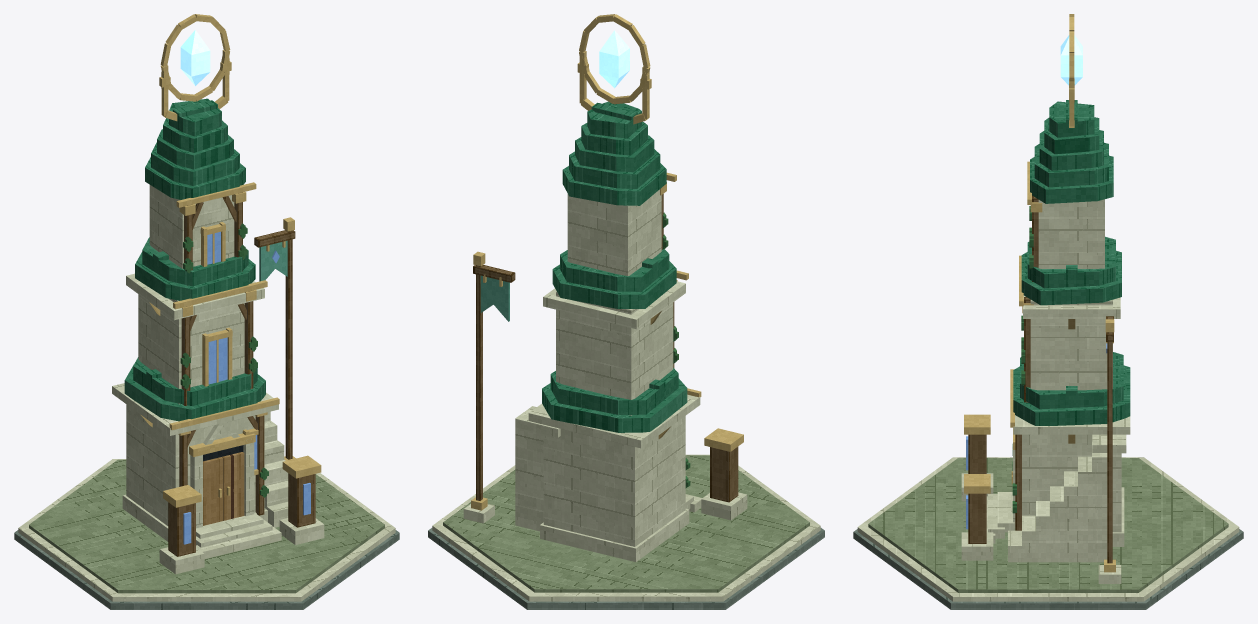
The model's file is elf_arcane_ritual_hex_v1.glb.
The picture shows the model from 3 angles, left to right: view 1: azimuth 30°, elevation 25°; view 2: azimuth 150°, elevation 25°; view 3: azimuth 270°, elevation 25°; orthographic projection. The views are drawn at different scales.
Parts seen in each view (by area): view 1: Elf_Arcane_Ritual_Hex_V1_Foundation, Elf_Arcane_Ritual_Hex_V1_Roofs, Elf_Arcane_Ritual_Hex_V1_Hall, Elf_Arcane_Ritual_Hex_V1_Details, Elf_Arcane_Ritual_Hex_V1_Training, Elf_Arcane_Ritual_Hex_V1_Courtyard, Elf_Arcane_Ritual_Hex_V1_Focus, Elf_Arcane_Ritual_Hex_V1_Faction; view 2: Elf_Arcane_Ritual_Hex_V1_Hall, Elf_Arcane_Ritual_Hex_V1_Foundation, Elf_Arcane_Ritual_Hex_V1_Roofs, Elf_Arcane_Ritual_Hex_V1_Focus, Elf_Arcane_Ritual_Hex_V1_Faction, Elf_Arcane_Ritual_Hex_V1_Courtyard, Elf_Arcane_Ritual_Hex_V1_Training, Elf_Arcane_Ritual_Hex_V1_Details; view 3: Elf_Arcane_Ritual_Hex_V1_Foundation, Elf_Arcane_Ritual_Hex_V1_Roofs, Elf_Arcane_Ritual_Hex_V1_Hall, Elf_Arcane_Ritual_Hex_V1_Courtyard, Elf_Arcane_Ritual_Hex_V1_Training, Elf_Arcane_Ritual_Hex_V1_Details, Elf_Arcane_Ritual_Hex_V1_Faction, Elf_Arcane_Ritual_Hex_V1_Focus.
Boxes of the visible parts, x1,y1,x2,y2 form: Elf_Arcane_Ritual_Hex_V1_Foundation: (14, 459, 399, 609); Elf_Arcane_Ritual_Hex_V1_Roofs: (112, 98, 279, 435); Elf_Arcane_Ritual_Hex_V1_Hall: (122, 185, 267, 541); Elf_Arcane_Ritual_Hex_V1_Details: (141, 192, 268, 515); Elf_Arcane_Ritual_Hex_V1_Training: (159, 455, 324, 574); Elf_Arcane_Ritual_Hex_V1_Courtyard: (196, 411, 288, 558); Elf_Arcane_Ritual_Hex_V1_Focus: (159, 14, 231, 121); Elf_Arcane_Ritual_Hex_V1_Faction: (254, 217, 295, 460); Elf_Arcane_Ritual_Hex_V1_Hall: (540, 189, 689, 561); Elf_Arcane_Ritual_Hex_V1_Foundation: (428, 454, 824, 609); Elf_Arcane_Ritual_Hex_V1_Roofs: (528, 101, 701, 448); Elf_Arcane_Ritual_Hex_V1_Focus: (577, 14, 651, 124); Elf_Arcane_Ritual_Hex_V1_Faction: (463, 251, 515, 523); Elf_Arcane_Ritual_Hex_V1_Courtyard: (515, 406, 702, 531); Elf_Arcane_Ritual_Hex_V1_Training: (701, 428, 747, 520); Elf_Arcane_Ritual_Hex_V1_Details: (650, 182, 690, 488); Elf_Arcane_Ritual_Hex_V1_Foundation: (853, 457, 1243, 609); Elf_Arcane_Ritual_Hex_V1_Roofs: (1010, 100, 1130, 434); Elf_Arcane_Ritual_Hex_V1_Hall: (1013, 199, 1124, 546); Elf_Arcane_Ritual_Hex_V1_Courtyard: (986, 434, 1126, 562); Elf_Arcane_Ritual_Hex_V1_Training: (961, 414, 993, 560); Elf_Arcane_Ritual_Hex_V1_Details: (1011, 195, 1075, 530); Elf_Arcane_Ritual_Hex_V1_Faction: (1098, 316, 1121, 583); Elf_Arcane_Ritual_Hex_V1_Focus: (1060, 14, 1082, 127).
Bounding box in the file's own units: 1.59 × 2.72 × 1.84.
1 material, 1 textured.
